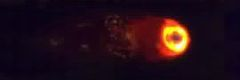keyhole: (169, 30, 184, 47)
